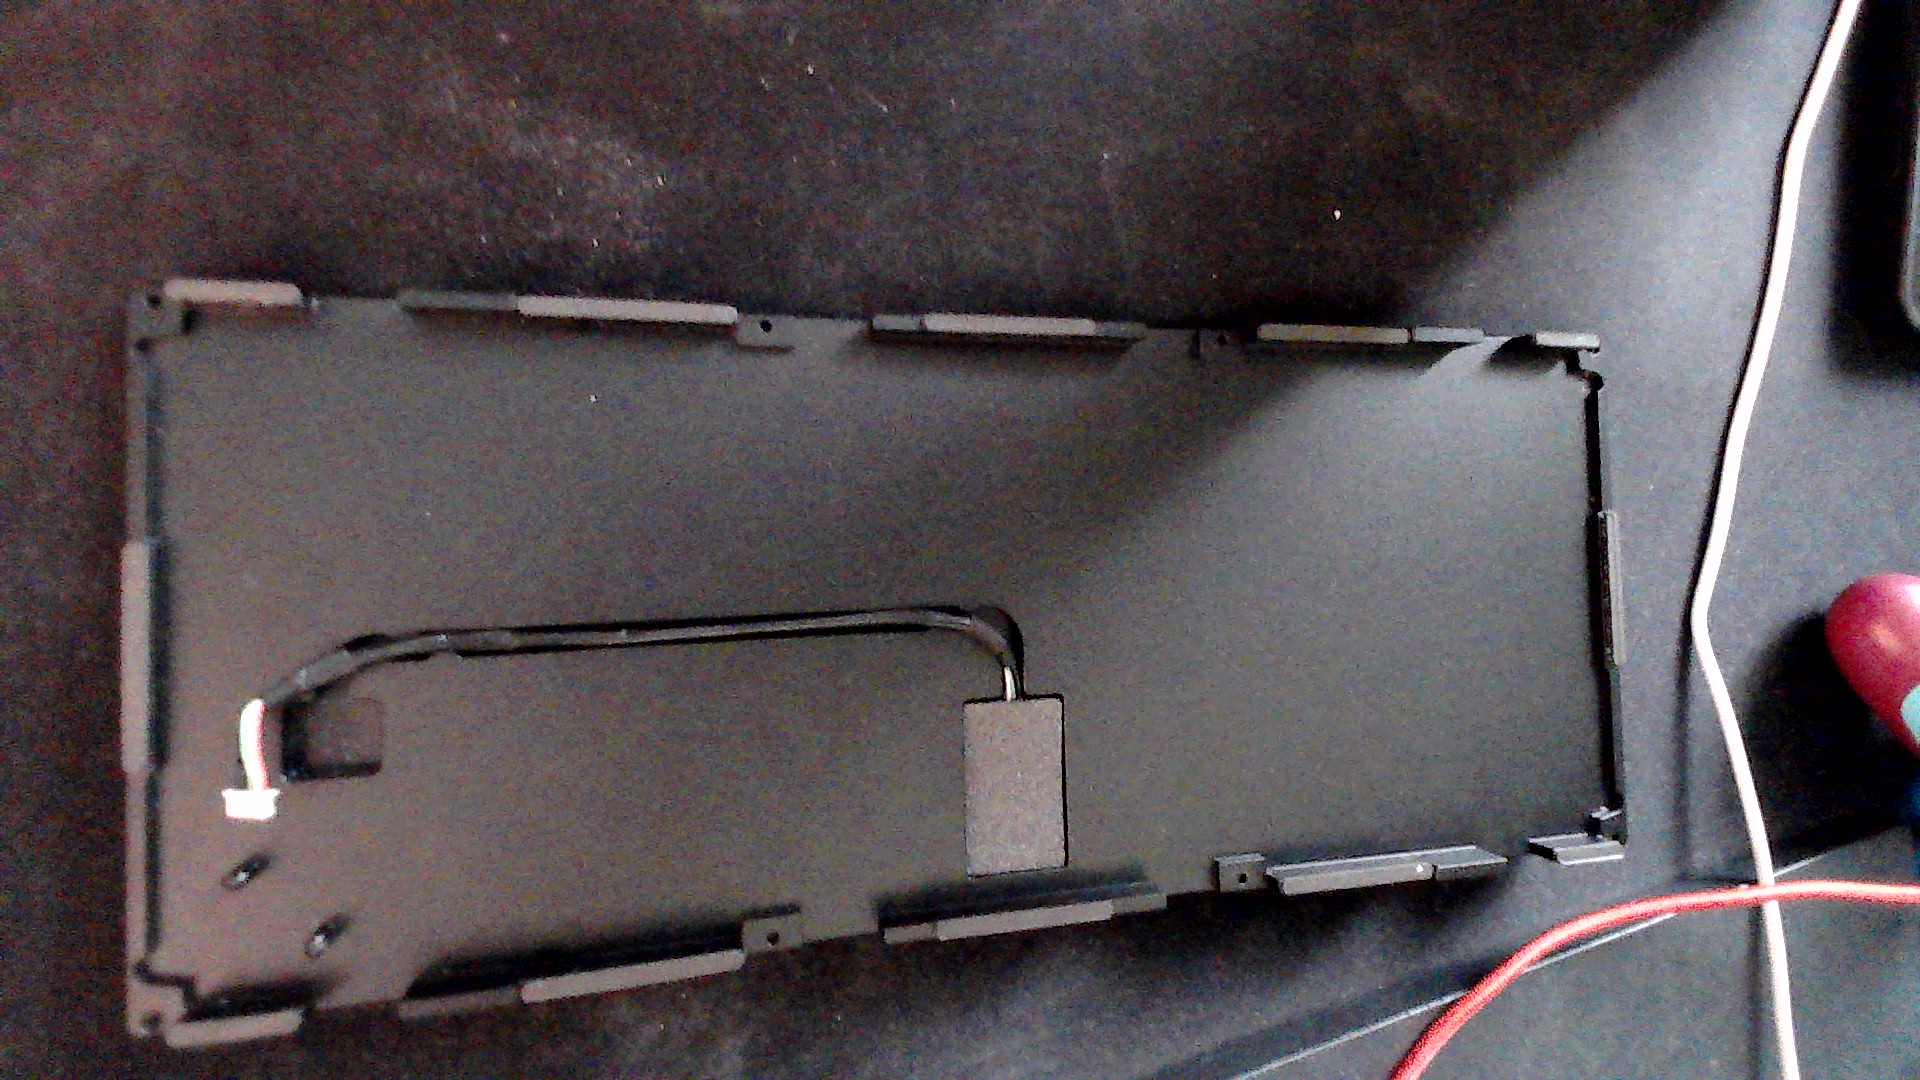case: (65, 248, 1733, 1040)
